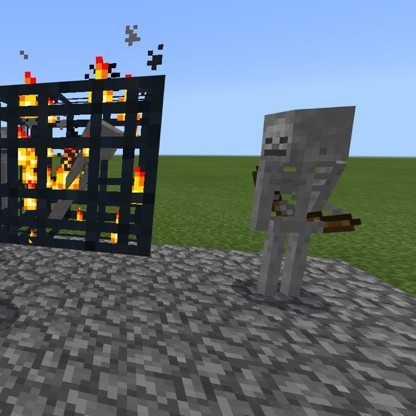skeleton: (251, 102, 358, 256)
